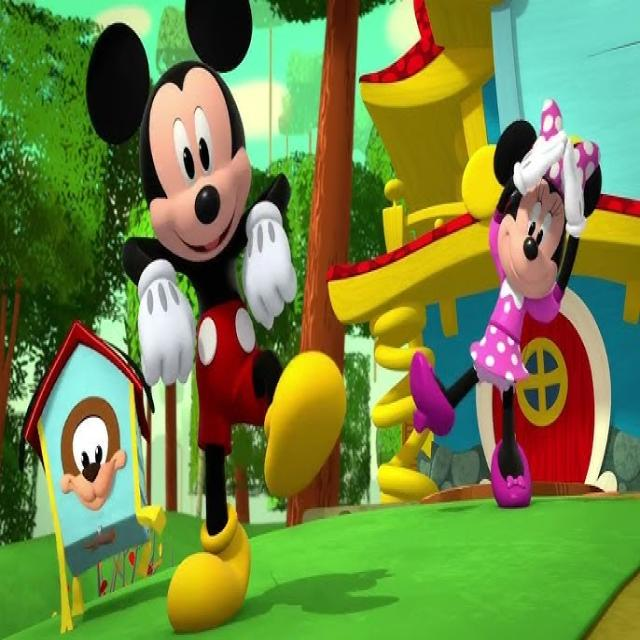mickey: (79, 3, 356, 549)
